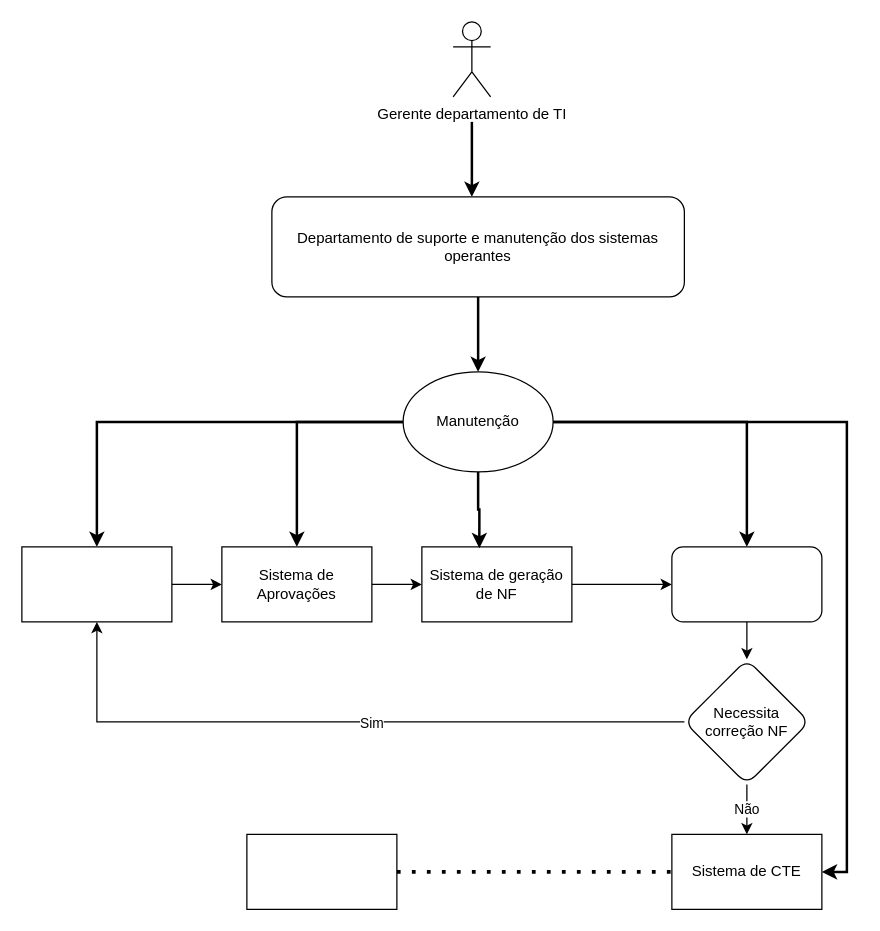
Some shapes in this 880 by 931 pixel diagram are drawn without their labels. The centre of each missing label's shape, as x and y in pixels:
"Departamento de revisões para CTE" goes at [746,584].
"Sistema de Propostas" goes at [96,584].
"Órgãos responsáveis pelo CTE" goes at [321,871].
